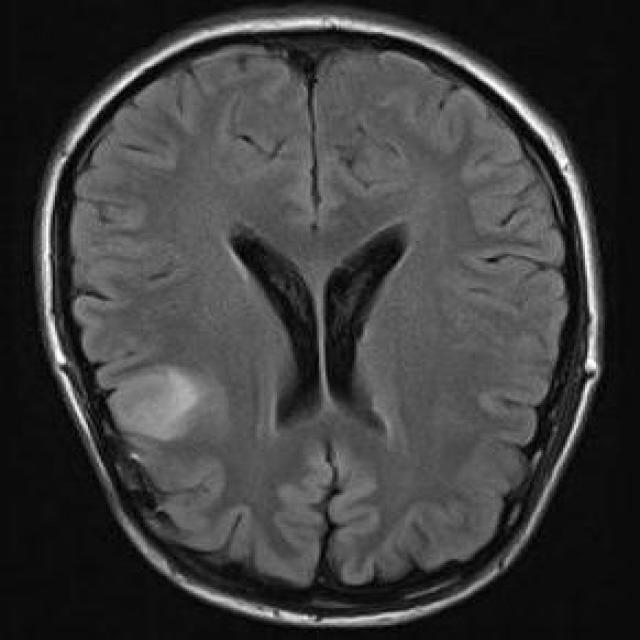Tumor: (87, 364, 209, 450)
